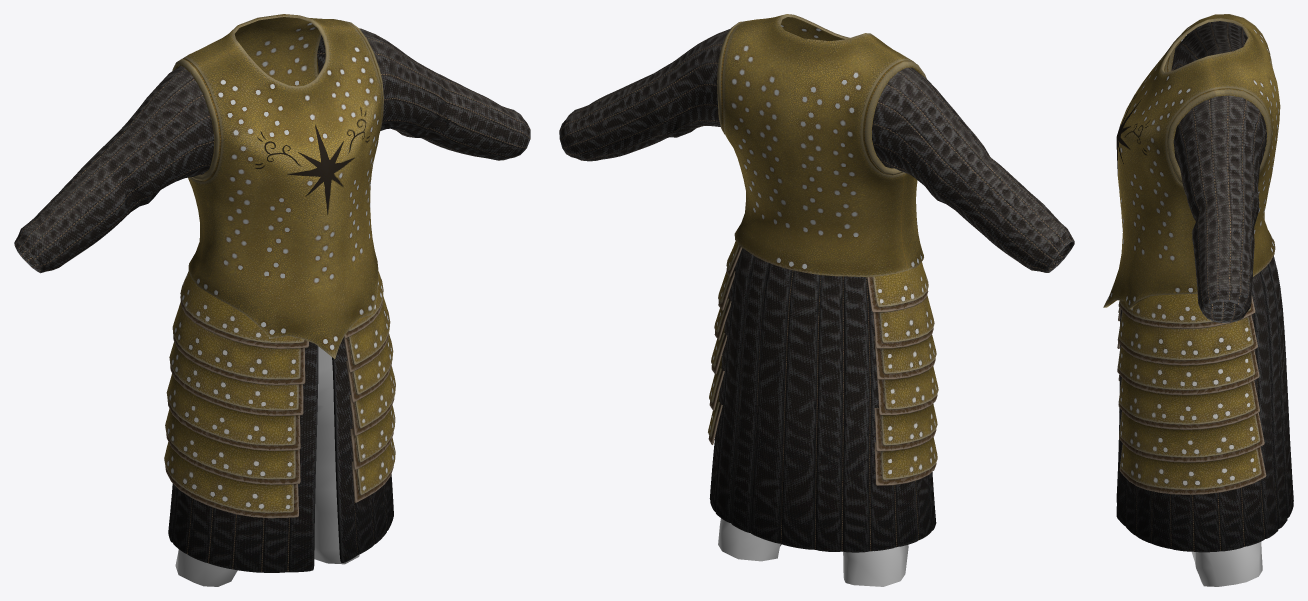
Rendered from rgva_chest_ver3.fbx.
The picture shows the model from 3 angles, left to right: view 1: azimuth 30°, elevation 25°; view 2: azimuth 150°, elevation 25°; view 3: azimuth 270°, elevation 25°; orthographic projection. The views are drawn at different scales.
Visible parts, largest first — view 1: rgva_chest_ver3.3, rgva_chest_ver3.2, rgva_chest_ver3.0, rgva_chest_ver3.1; view 2: rgva_chest_ver3.2, rgva_chest_ver3.3, rgva_chest_ver3.0, rgva_chest_ver3.1; view 3: rgva_chest_ver3.2, rgva_chest_ver3.0, rgva_chest_ver3.3, rgva_chest_ver3.1.
Part boxes in pixels (x1,y1,x2,y2): rgva_chest_ver3.3: [172, 14, 383, 358]; rgva_chest_ver3.2: [14, 28, 530, 572]; rgva_chest_ver3.0: [164, 271, 395, 518]; rgva_chest_ver3.1: [175, 346, 359, 586]; rgva_chest_ver3.2: [559, 29, 1074, 552]; rgva_chest_ver3.3: [717, 14, 926, 277]; rgva_chest_ver3.0: [708, 241, 938, 485]; rgva_chest_ver3.1: [718, 518, 908, 586]; rgva_chest_ver3.2: [1116, 21, 1293, 552]; rgva_chest_ver3.0: [1117, 294, 1266, 494]; rgva_chest_ver3.3: [1103, 14, 1280, 309]; rgva_chest_ver3.1: [1191, 542, 1262, 586].
Bounding box in the file's own units: 1.18 × 0.4043 × 1.21.
